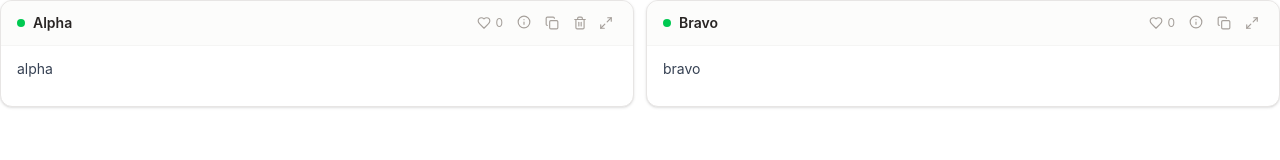
Scenario: ResponseGroup › deletes one response after confirmation and keeps its sibling
Click the button named "Delete response": x=580, y=23 x1=569 y1=12 x2=591 y2=34
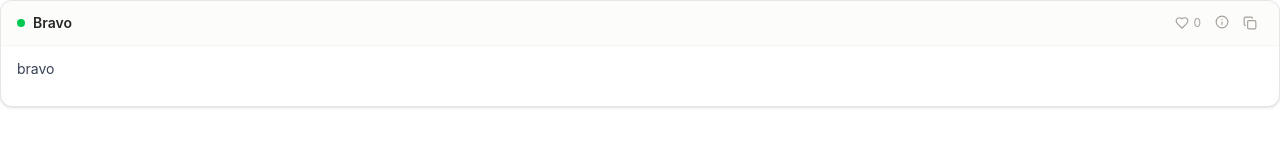
Expected: the text "Bravo" is shown, x1=33 y1=13 x2=72 y2=33
Now the text "Alpha" is gone
